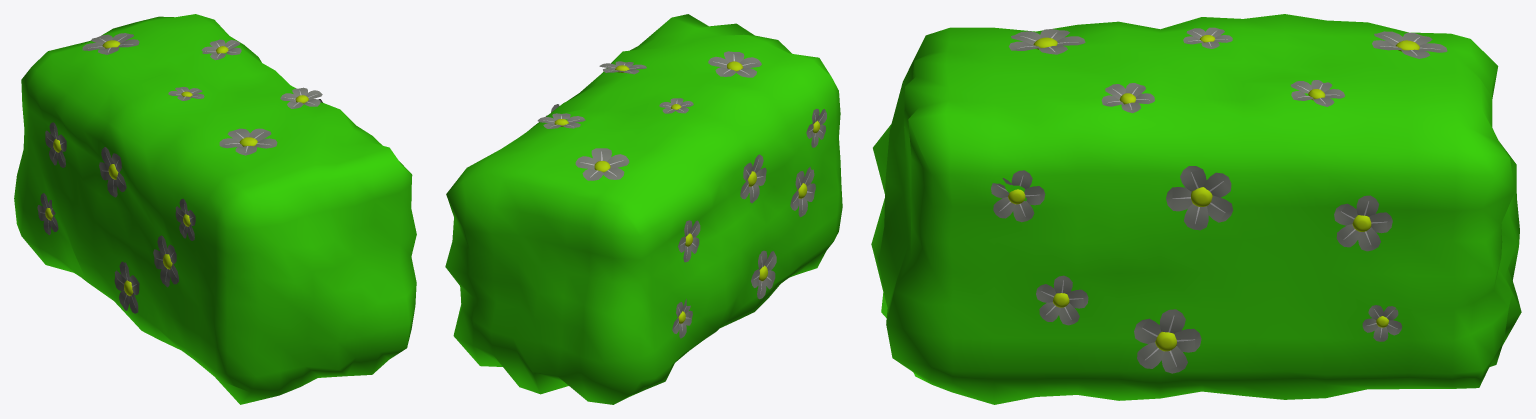
The model's file is Hedge.fbx.
3 views of the same model, side by side, from view 1: azimuth 30°, elevation 25°; view 2: azimuth 150°, elevation 25°; view 3: azimuth 270°, elevation 25° (orthographic). The views are drawn at different scales.
Parts seen in each view (by area): view 1: Hedge; view 2: Hedge; view 3: Hedge.
Part boxes in pixels (<box>): Hedge: <box>14,14,416,404</box>; Hedge: <box>445,14,842,404</box>; Hedge: <box>871,14,1521,404</box>.
Bounding box in the file's own units: 567 × 1120 × 584.
